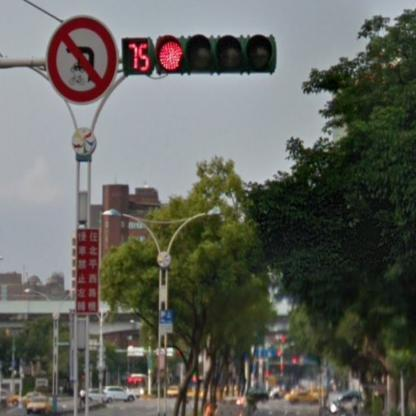Red Light: (123, 35, 277, 76)
